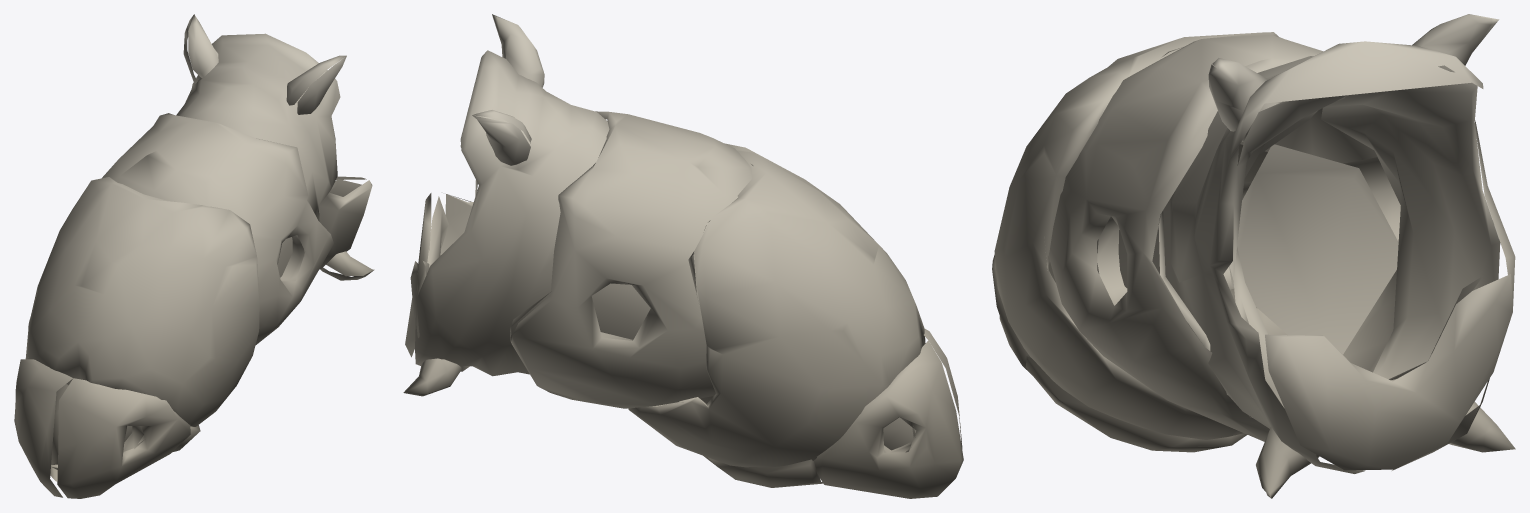
File: lb_shell_small.glb
3 views of the same model, side by side, from view 1: azimuth 30°, elevation 25°; view 2: azimuth 150°, elevation 25°; view 3: azimuth 270°, elevation 25° (orthographic). The views are drawn at different scales.
Parts seen in each view (by area): view 1: geometry_0; view 2: geometry_0; view 3: geometry_0.
Boxes of the visible parts, x1,y1,x2,y2 form: geometry_0: (14,14,374,498); geometry_0: (403,14,963,498); geometry_0: (992,14,1515,498).
Size of the model in its own units: 3.05 by 2.55 by 2.15.
